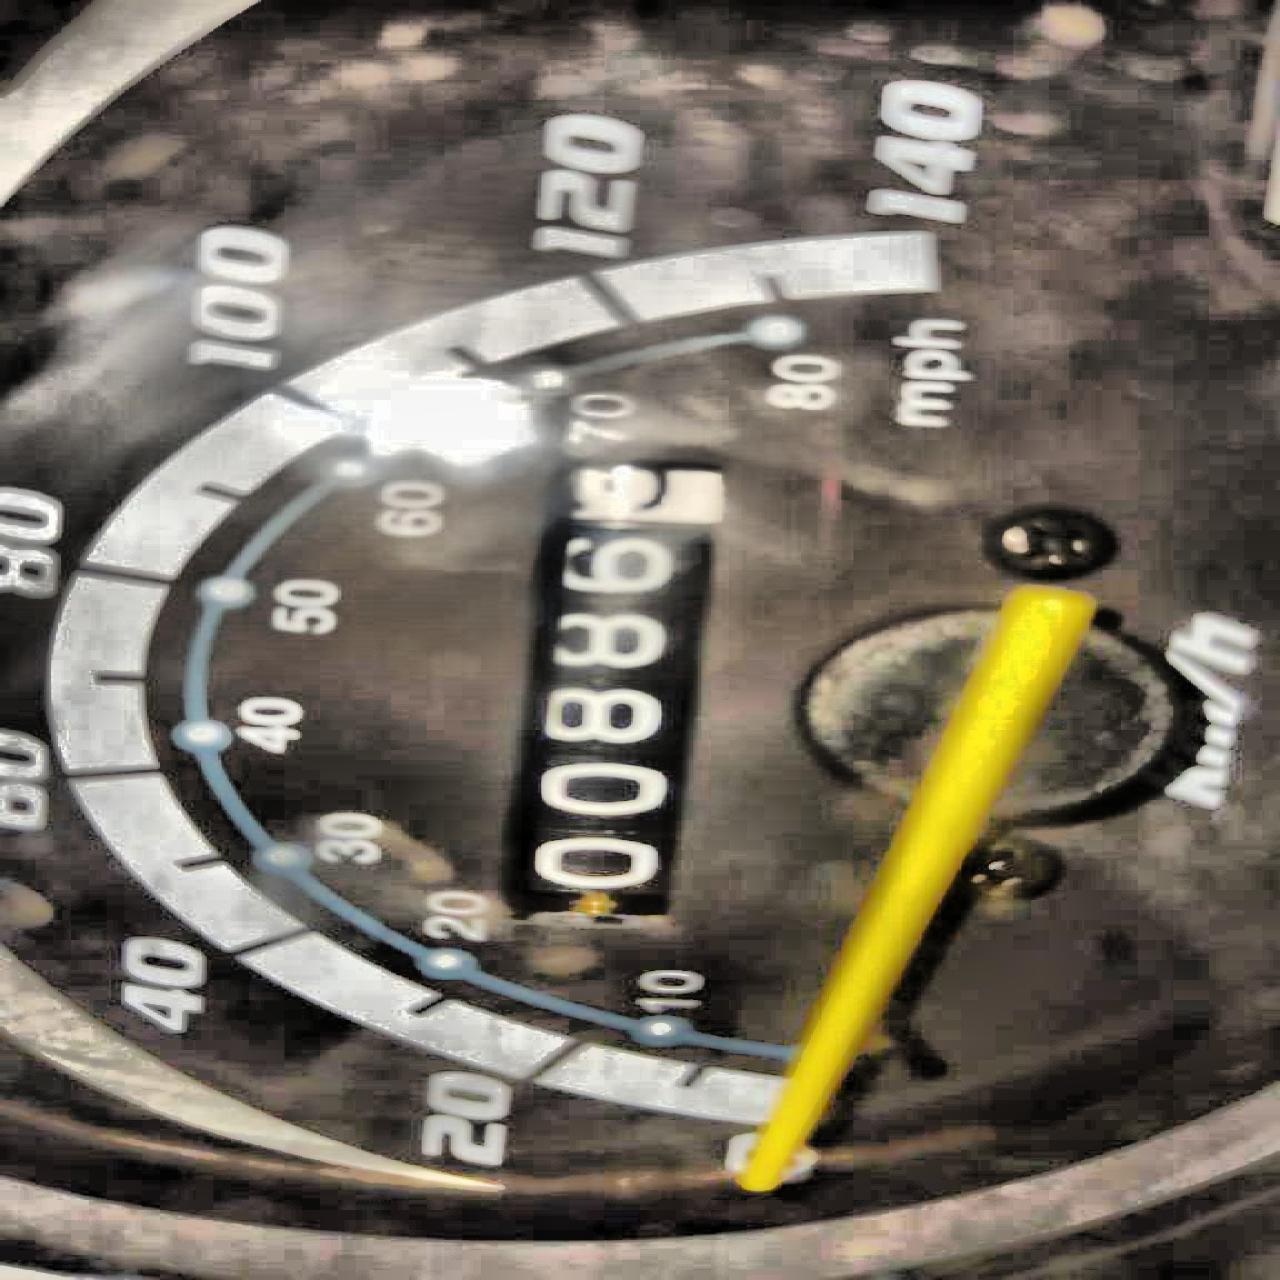0: (538, 758, 667, 816), (533, 835, 655, 888)
3: (565, 459, 665, 515)
6: (551, 535, 673, 594)
8: (540, 687, 660, 742), (553, 610, 660, 669)
odometer: (462, 443, 747, 937)
